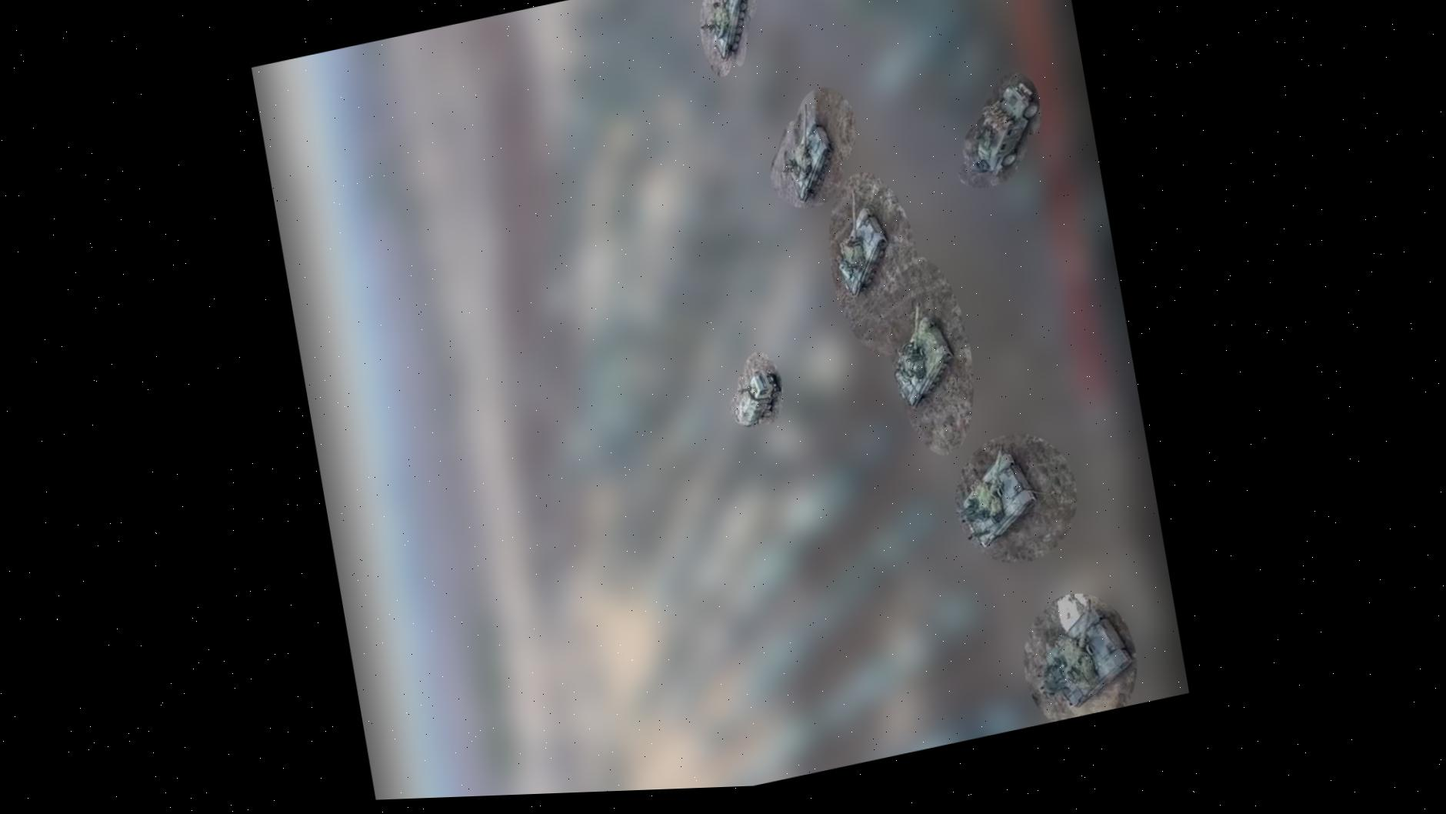armored_car: (959, 75, 1050, 179)
tank: (1025, 585, 1144, 714), (948, 435, 1044, 553), (880, 293, 962, 413), (822, 183, 899, 304), (770, 95, 843, 207), (696, 0, 758, 63)
truck: (727, 362, 789, 432)
